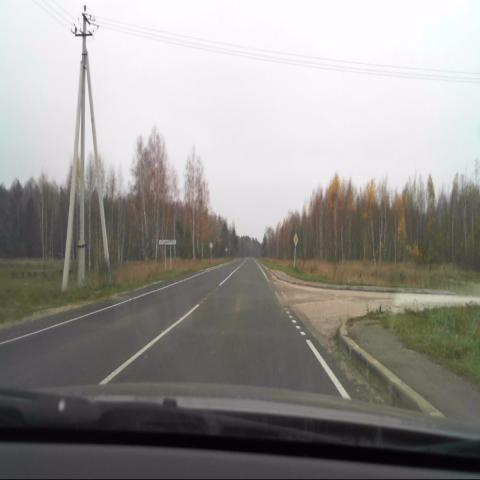2_1: (292, 233, 298, 246)
